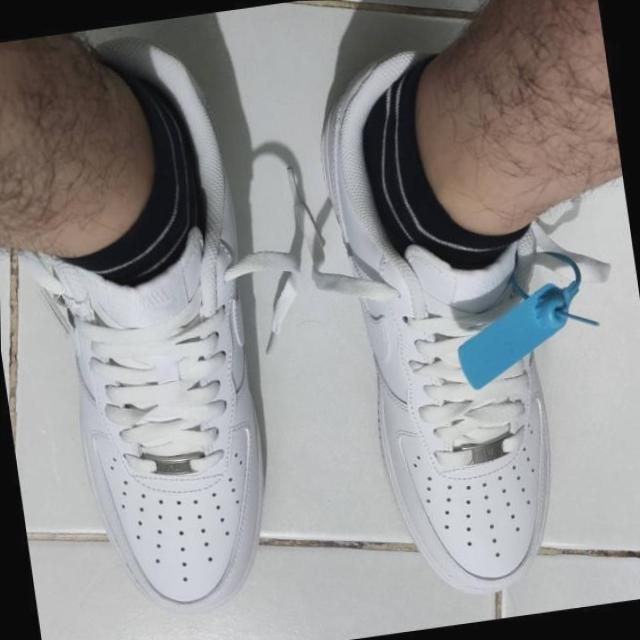nike_original_airforce: (18, 24, 290, 629), (306, 37, 584, 612)
